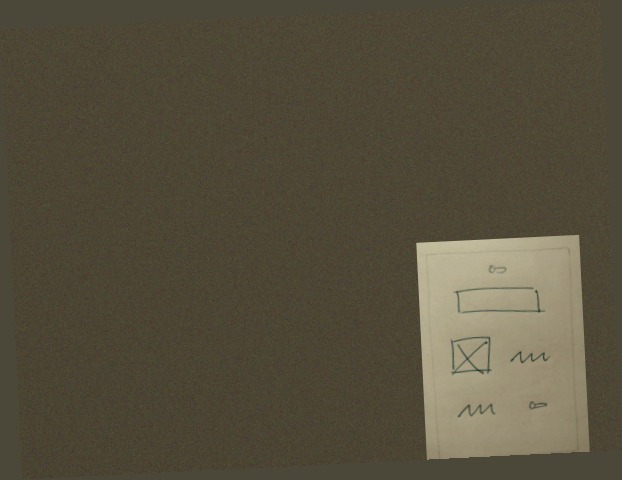image: (444, 333, 497, 379)
switch: (521, 397, 557, 414), (484, 261, 514, 278)
text: (449, 400, 500, 420), (508, 346, 555, 367)
text_input: (449, 283, 550, 320)
